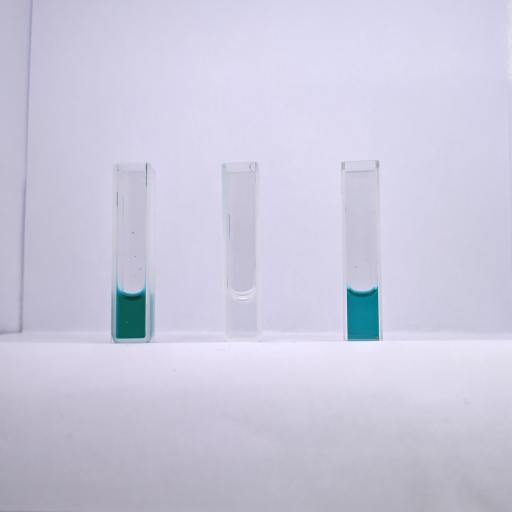cuvette: (338, 158, 384, 342), (110, 159, 152, 344), (220, 160, 262, 342)
liquid: (116, 288, 146, 338), (347, 290, 378, 338), (228, 290, 256, 337)
